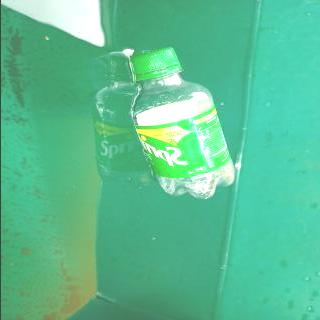bottle: (126, 46, 238, 200)
